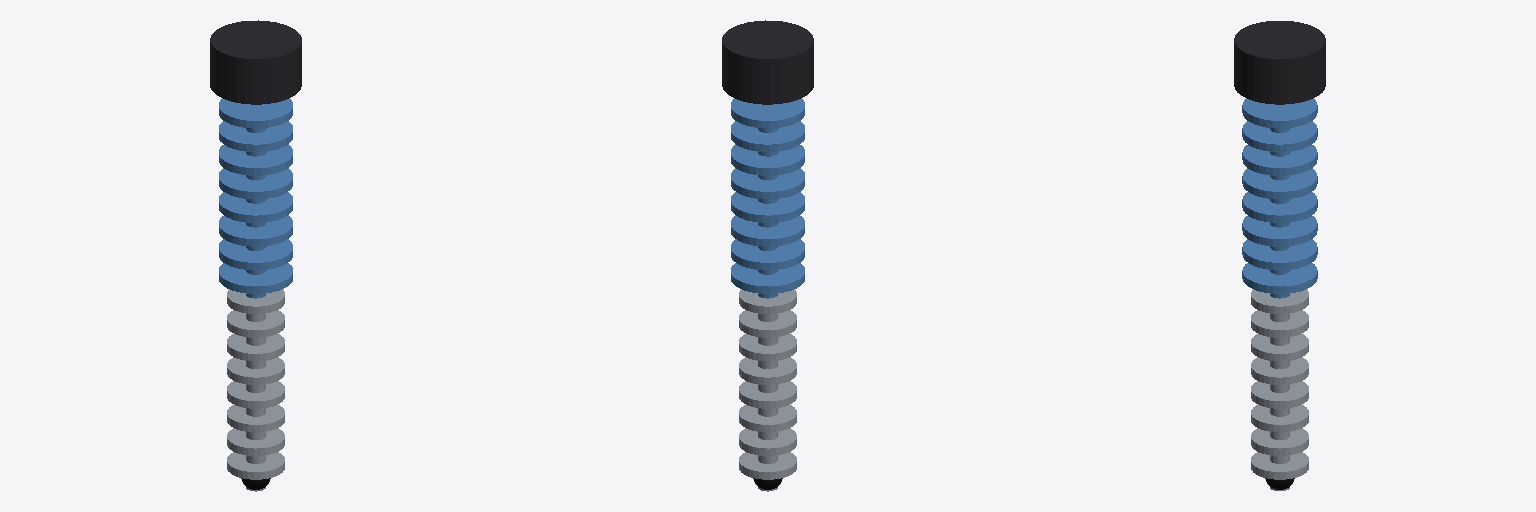
URDF robot description (gradus_leg):
<?xml version="1.0"?>
<robot name="gradus_leg">
  <link name="base">
    <inertial>
      <origin xyz="0 0 0.02" rpy="0 0 0"/>
      <mass value="0.2"/>
      <inertia ixx="0.0002" ixy="0" ixz="0" iyy="0.0002" iyz="0" izz="0.00025"/>
    </inertial>
    <visual>
      <origin xyz="0 0 0.03" rpy="0 0 0"/>
      <geometry><cylinder radius="0.055" length="0.06"/></geometry>
      <material name="base_mat"><color rgba="0.2 0.2 0.22 1"/></material>
    </visual>
    <collision>
      <origin xyz="0 0 0.03" rpy="0 0 0"/>
      <geometry><cylinder radius="0.055" length="0.06"/></geometry>
    </collision>
  </link>

  <link name="disk_0">
    <inertial>
      <origin xyz="0 0 -0.015625" rpy="0 0 0"/>
      <mass value="0.055000"/>
      <inertia ixx="2.83020833e-05" ixy="0" ixz="0" iyy="2.83020833e-05" iyz="0" izz="5.56875000e-05"/>
    </inertial>
    <visual>
      <origin xyz="0 0 0" rpy="0 0 0"/>
      <geometry><cylinder radius="0.045000" length="0.010000"/></geometry>
      <material name="disk_0_mat"><color rgba="0.36 0.55 0.75 1"/></material>
    </visual>
    <visual>
      <origin xyz="0 0 -0.015625" rpy="0 0 0"/>
      <geometry><cylinder radius="0.012" length="0.031250"/></geometry>
      <material name="disk_0_strut"><color rgba="0.36 0.55 0.75 1"/></material>
    </visual>
    <collision>
      <origin xyz="0 0 0" rpy="0 0 0"/>
      <geometry><cylinder radius="0.045000" length="0.010000"/></geometry>
    </collision>
  </link>

  <link name="disk_1">
    <inertial>
      <origin xyz="0 0 -0.015625" rpy="0 0 0"/>
      <mass value="0.055000"/>
      <inertia ixx="2.83020833e-05" ixy="0" ixz="0" iyy="2.83020833e-05" iyz="0" izz="5.56875000e-05"/>
    </inertial>
    <visual>
      <origin xyz="0 0 0" rpy="0 0 0"/>
      <geometry><cylinder radius="0.045000" length="0.010000"/></geometry>
      <material name="disk_1_mat"><color rgba="0.36 0.55 0.75 1"/></material>
    </visual>
    <visual>
      <origin xyz="0 0 -0.015625" rpy="0 0 0"/>
      <geometry><cylinder radius="0.012" length="0.031250"/></geometry>
      <material name="disk_1_strut"><color rgba="0.36 0.55 0.75 1"/></material>
    </visual>
    <collision>
      <origin xyz="0 0 0" rpy="0 0 0"/>
      <geometry><cylinder radius="0.045000" length="0.010000"/></geometry>
    </collision>
  </link>

  <link name="disk_2">
    <inertial>
      <origin xyz="0 0 -0.015625" rpy="0 0 0"/>
      <mass value="0.055000"/>
      <inertia ixx="2.83020833e-05" ixy="0" ixz="0" iyy="2.83020833e-05" iyz="0" izz="5.56875000e-05"/>
    </inertial>
    <visual>
      <origin xyz="0 0 0" rpy="0 0 0"/>
      <geometry><cylinder radius="0.045000" length="0.010000"/></geometry>
      <material name="disk_2_mat"><color rgba="0.36 0.55 0.75 1"/></material>
    </visual>
    <visual>
      <origin xyz="0 0 -0.015625" rpy="0 0 0"/>
      <geometry><cylinder radius="0.012" length="0.031250"/></geometry>
      <material name="disk_2_strut"><color rgba="0.36 0.55 0.75 1"/></material>
    </visual>
    <collision>
      <origin xyz="0 0 0" rpy="0 0 0"/>
      <geometry><cylinder radius="0.045000" length="0.010000"/></geometry>
    </collision>
  </link>

  <link name="disk_3">
    <inertial>
      <origin xyz="0 0 -0.015625" rpy="0 0 0"/>
      <mass value="0.055000"/>
      <inertia ixx="2.83020833e-05" ixy="0" ixz="0" iyy="2.83020833e-05" iyz="0" izz="5.56875000e-05"/>
    </inertial>
    <visual>
      <origin xyz="0 0 0" rpy="0 0 0"/>
      <geometry><cylinder radius="0.045000" length="0.010000"/></geometry>
      <material name="disk_3_mat"><color rgba="0.36 0.55 0.75 1"/></material>
    </visual>
    <visual>
      <origin xyz="0 0 -0.015625" rpy="0 0 0"/>
      <geometry><cylinder radius="0.012" length="0.031250"/></geometry>
      <material name="disk_3_strut"><color rgba="0.36 0.55 0.75 1"/></material>
    </visual>
    <collision>
      <origin xyz="0 0 0" rpy="0 0 0"/>
      <geometry><cylinder radius="0.045000" length="0.010000"/></geometry>
    </collision>
  </link>

  <link name="disk_4">
    <inertial>
      <origin xyz="0 0 -0.015625" rpy="0 0 0"/>
      <mass value="0.055000"/>
      <inertia ixx="2.83020833e-05" ixy="0" ixz="0" iyy="2.83020833e-05" iyz="0" izz="5.56875000e-05"/>
    </inertial>
    <visual>
      <origin xyz="0 0 0" rpy="0 0 0"/>
      <geometry><cylinder radius="0.045000" length="0.010000"/></geometry>
      <material name="disk_4_mat"><color rgba="0.36 0.55 0.75 1"/></material>
    </visual>
    <visual>
      <origin xyz="0 0 -0.015625" rpy="0 0 0"/>
      <geometry><cylinder radius="0.012" length="0.031250"/></geometry>
      <material name="disk_4_strut"><color rgba="0.36 0.55 0.75 1"/></material>
    </visual>
    <collision>
      <origin xyz="0 0 0" rpy="0 0 0"/>
      <geometry><cylinder radius="0.045000" length="0.010000"/></geometry>
    </collision>
  </link>

  <link name="disk_5">
    <inertial>
      <origin xyz="0 0 -0.015625" rpy="0 0 0"/>
      <mass value="0.055000"/>
      <inertia ixx="2.83020833e-05" ixy="0" ixz="0" iyy="2.83020833e-05" iyz="0" izz="5.56875000e-05"/>
    </inertial>
    <visual>
      <origin xyz="0 0 0" rpy="0 0 0"/>
      <geometry><cylinder radius="0.045000" length="0.010000"/></geometry>
      <material name="disk_5_mat"><color rgba="0.36 0.55 0.75 1"/></material>
    </visual>
    <visual>
      <origin xyz="0 0 -0.015625" rpy="0 0 0"/>
      <geometry><cylinder radius="0.012" length="0.031250"/></geometry>
      <material name="disk_5_strut"><color rgba="0.36 0.55 0.75 1"/></material>
    </visual>
    <collision>
      <origin xyz="0 0 0" rpy="0 0 0"/>
      <geometry><cylinder radius="0.045000" length="0.010000"/></geometry>
    </collision>
  </link>

  <link name="disk_6">
    <inertial>
      <origin xyz="0 0 -0.015625" rpy="0 0 0"/>
      <mass value="0.055000"/>
      <inertia ixx="2.83020833e-05" ixy="0" ixz="0" iyy="2.83020833e-05" iyz="0" izz="5.56875000e-05"/>
    </inertial>
    <visual>
      <origin xyz="0 0 0" rpy="0 0 0"/>
      <geometry><cylinder radius="0.045000" length="0.010000"/></geometry>
      <material name="disk_6_mat"><color rgba="0.36 0.55 0.75 1"/></material>
    </visual>
    <visual>
      <origin xyz="0 0 -0.015625" rpy="0 0 0"/>
      <geometry><cylinder radius="0.012" length="0.031250"/></geometry>
      <material name="disk_6_strut"><color rgba="0.36 0.55 0.75 1"/></material>
    </visual>
    <collision>
      <origin xyz="0 0 0" rpy="0 0 0"/>
      <geometry><cylinder radius="0.045000" length="0.010000"/></geometry>
    </collision>
  </link>

  <link name="disk_7">
    <inertial>
      <origin xyz="0 0 -0.015625" rpy="0 0 0"/>
      <mass value="0.055000"/>
      <inertia ixx="2.83020833e-05" ixy="0" ixz="0" iyy="2.83020833e-05" iyz="0" izz="5.56875000e-05"/>
    </inertial>
    <visual>
      <origin xyz="0 0 0" rpy="0 0 0"/>
      <geometry><cylinder radius="0.045000" length="0.010000"/></geometry>
      <material name="disk_7_mat"><color rgba="0.36 0.55 0.75 1"/></material>
    </visual>
    <visual>
      <origin xyz="0 0 -0.015625" rpy="0 0 0"/>
      <geometry><cylinder radius="0.012" length="0.031250"/></geometry>
      <material name="disk_7_strut"><color rgba="0.36 0.55 0.75 1"/></material>
    </visual>
    <collision>
      <origin xyz="0 0 0" rpy="0 0 0"/>
      <geometry><cylinder radius="0.045000" length="0.010000"/></geometry>
    </collision>
  </link>

  <link name="disk_8">
    <inertial>
      <origin xyz="0 0 -0.015625" rpy="0 0 0"/>
      <mass value="0.040000"/>
      <inertia ixx="1.25833333e-05" ixy="0" ixz="0" iyy="1.25833333e-05" iyz="0" izz="2.45000000e-05"/>
    </inertial>
    <visual>
      <origin xyz="0 0 0" rpy="0 0 0"/>
      <geometry><cylinder radius="0.035000" length="0.010000"/></geometry>
      <material name="disk_8_mat"><color rgba="0.62 0.65 0.68 1"/></material>
    </visual>
    <visual>
      <origin xyz="0 0 -0.015625" rpy="0 0 0"/>
      <geometry><cylinder radius="0.012" length="0.031250"/></geometry>
      <material name="disk_8_strut"><color rgba="0.62 0.65 0.68 1"/></material>
    </visual>
    <collision>
      <origin xyz="0 0 0" rpy="0 0 0"/>
      <geometry><cylinder radius="0.035000" length="0.010000"/></geometry>
    </collision>
  </link>

  <link name="disk_9">
    <inertial>
      <origin xyz="0 0 -0.015625" rpy="0 0 0"/>
      <mass value="0.040000"/>
      <inertia ixx="1.25833333e-05" ixy="0" ixz="0" iyy="1.25833333e-05" iyz="0" izz="2.45000000e-05"/>
    </inertial>
    <visual>
      <origin xyz="0 0 0" rpy="0 0 0"/>
      <geometry><cylinder radius="0.035000" length="0.010000"/></geometry>
      <material name="disk_9_mat"><color rgba="0.62 0.65 0.68 1"/></material>
    </visual>
    <visual>
      <origin xyz="0 0 -0.015625" rpy="0 0 0"/>
      <geometry><cylinder radius="0.012" length="0.031250"/></geometry>
      <material name="disk_9_strut"><color rgba="0.62 0.65 0.68 1"/></material>
    </visual>
    <collision>
      <origin xyz="0 0 0" rpy="0 0 0"/>
      <geometry><cylinder radius="0.035000" length="0.010000"/></geometry>
    </collision>
  </link>

  <link name="disk_10">
    <inertial>
      <origin xyz="0 0 -0.015625" rpy="0 0 0"/>
      <mass value="0.040000"/>
      <inertia ixx="1.25833333e-05" ixy="0" ixz="0" iyy="1.25833333e-05" iyz="0" izz="2.45000000e-05"/>
    </inertial>
    <visual>
      <origin xyz="0 0 0" rpy="0 0 0"/>
      <geometry><cylinder radius="0.035000" length="0.010000"/></geometry>
      <material name="disk_10_mat"><color rgba="0.62 0.65 0.68 1"/></material>
    </visual>
    <visual>
      <origin xyz="0 0 -0.015625" rpy="0 0 0"/>
      <geometry><cylinder radius="0.012" length="0.031250"/></geometry>
      <material name="disk_10_strut"><color rgba="0.62 0.65 0.68 1"/></material>
    </visual>
    <collision>
      <origin xyz="0 0 0" rpy="0 0 0"/>
      <geometry><cylinder radius="0.035000" length="0.010000"/></geometry>
    </collision>
  </link>

  <link name="disk_11">
    <inertial>
      <origin xyz="0 0 -0.015625" rpy="0 0 0"/>
      <mass value="0.040000"/>
      <inertia ixx="1.25833333e-05" ixy="0" ixz="0" iyy="1.25833333e-05" iyz="0" izz="2.45000000e-05"/>
    </inertial>
    <visual>
      <origin xyz="0 0 0" rpy="0 0 0"/>
      <geometry><cylinder radius="0.035000" length="0.010000"/></geometry>
      <material name="disk_11_mat"><color rgba="0.62 0.65 0.68 1"/></material>
    </visual>
    <visual>
      <origin xyz="0 0 -0.015625" rpy="0 0 0"/>
      <geometry><cylinder radius="0.012" length="0.031250"/></geometry>
      <material name="disk_11_strut"><color rgba="0.62 0.65 0.68 1"/></material>
    </visual>
    <collision>
      <origin xyz="0 0 0" rpy="0 0 0"/>
      <geometry><cylinder radius="0.035000" length="0.010000"/></geometry>
    </collision>
  </link>

  <link name="disk_12">
    <inertial>
      <origin xyz="0 0 -0.015625" rpy="0 0 0"/>
      <mass value="0.040000"/>
      <inertia ixx="1.25833333e-05" ixy="0" ixz="0" iyy="1.25833333e-05" iyz="0" izz="2.45000000e-05"/>
    </inertial>
    <visual>
      <origin xyz="0 0 0" rpy="0 0 0"/>
      <geometry><cylinder radius="0.035000" length="0.010000"/></geometry>
      <material name="disk_12_mat"><color rgba="0.62 0.65 0.68 1"/></material>
    </visual>
    <visual>
      <origin xyz="0 0 -0.015625" rpy="0 0 0"/>
      <geometry><cylinder radius="0.012" length="0.031250"/></geometry>
      <material name="disk_12_strut"><color rgba="0.62 0.65 0.68 1"/></material>
    </visual>
    <collision>
      <origin xyz="0 0 0" rpy="0 0 0"/>
      <geometry><cylinder radius="0.035000" length="0.010000"/></geometry>
    </collision>
  </link>

  <link name="disk_13">
    <inertial>
      <origin xyz="0 0 -0.015625" rpy="0 0 0"/>
      <mass value="0.040000"/>
      <inertia ixx="1.25833333e-05" ixy="0" ixz="0" iyy="1.25833333e-05" iyz="0" izz="2.45000000e-05"/>
    </inertial>
    <visual>
      <origin xyz="0 0 0" rpy="0 0 0"/>
      <geometry><cylinder radius="0.035000" length="0.010000"/></geometry>
      <material name="disk_13_mat"><color rgba="0.62 0.65 0.68 1"/></material>
    </visual>
    <visual>
      <origin xyz="0 0 -0.015625" rpy="0 0 0"/>
      <geometry><cylinder radius="0.012" length="0.031250"/></geometry>
      <material name="disk_13_strut"><color rgba="0.62 0.65 0.68 1"/></material>
    </visual>
    <collision>
      <origin xyz="0 0 0" rpy="0 0 0"/>
      <geometry><cylinder radius="0.035000" length="0.010000"/></geometry>
    </collision>
  </link>

  <link name="disk_14">
    <inertial>
      <origin xyz="0 0 -0.015625" rpy="0 0 0"/>
      <mass value="0.040000"/>
      <inertia ixx="1.25833333e-05" ixy="0" ixz="0" iyy="1.25833333e-05" iyz="0" izz="2.45000000e-05"/>
    </inertial>
    <visual>
      <origin xyz="0 0 0" rpy="0 0 0"/>
      <geometry><cylinder radius="0.035000" length="0.010000"/></geometry>
      <material name="disk_14_mat"><color rgba="0.62 0.65 0.68 1"/></material>
    </visual>
    <visual>
      <origin xyz="0 0 -0.015625" rpy="0 0 0"/>
      <geometry><cylinder radius="0.012" length="0.031250"/></geometry>
      <material name="disk_14_strut"><color rgba="0.62 0.65 0.68 1"/></material>
    </visual>
    <collision>
      <origin xyz="0 0 0" rpy="0 0 0"/>
      <geometry><cylinder radius="0.035000" length="0.010000"/></geometry>
    </collision>
  </link>

  <link name="disk_15">
    <inertial>
      <origin xyz="0 0 -0.015625" rpy="0 0 0"/>
      <mass value="0.040000"/>
      <inertia ixx="1.25833333e-05" ixy="0" ixz="0" iyy="1.25833333e-05" iyz="0" izz="2.45000000e-05"/>
    </inertial>
    <visual>
      <origin xyz="0 0 0" rpy="0 0 0"/>
      <geometry><cylinder radius="0.035000" length="0.010000"/></geometry>
      <material name="disk_15_mat"><color rgba="0.62 0.65 0.68 1"/></material>
    </visual>
    <visual>
      <origin xyz="0 0 -0.015625" rpy="0 0 0"/>
      <geometry><cylinder radius="0.012" length="0.031250"/></geometry>
      <material name="disk_15_strut"><color rgba="0.62 0.65 0.68 1"/></material>
    </visual>
    <collision>
      <origin xyz="0 0 0" rpy="0 0 0"/>
      <geometry><cylinder radius="0.035000" length="0.010000"/></geometry>
    </collision>
  </link>

  <joint name="joint_0" type="revolute">
    <origin xyz="0 0 -0.031250" rpy="0 0 0"/>
    <parent link="base"/>
    <child link="disk_0"/>
    <axis xyz="0 1 0"/>
    <limit lower="-1.75" upper="1.75" effort="500" velocity="10"/>
    <dynamics damping="0.002" friction="0"/>
  </joint>

  <joint name="joint_1" type="revolute">
    <origin xyz="0 0 -0.031250" rpy="0 0 0"/>
    <parent link="disk_0"/>
    <child link="disk_1"/>
    <axis xyz="0 1 0"/>
    <limit lower="-1.75" upper="1.75" effort="500" velocity="10"/>
    <dynamics damping="0.002" friction="0"/>
  </joint>

  <joint name="joint_2" type="revolute">
    <origin xyz="0 0 -0.031250" rpy="0 0 0"/>
    <parent link="disk_1"/>
    <child link="disk_2"/>
    <axis xyz="0 1 0"/>
    <limit lower="-1.75" upper="1.75" effort="500" velocity="10"/>
    <dynamics damping="0.002" friction="0"/>
  </joint>

  <joint name="joint_3" type="revolute">
    <origin xyz="0 0 -0.031250" rpy="0 0 0"/>
    <parent link="disk_2"/>
    <child link="disk_3"/>
    <axis xyz="0 1 0"/>
    <limit lower="-1.75" upper="1.75" effort="500" velocity="10"/>
    <dynamics damping="0.002" friction="0"/>
  </joint>

  <joint name="joint_4" type="revolute">
    <origin xyz="0 0 -0.031250" rpy="0 0 0"/>
    <parent link="disk_3"/>
    <child link="disk_4"/>
    <axis xyz="0 1 0"/>
    <limit lower="-1.75" upper="1.75" effort="500" velocity="10"/>
    <dynamics damping="0.002" friction="0"/>
  </joint>

  <joint name="joint_5" type="revolute">
    <origin xyz="0 0 -0.031250" rpy="0 0 0"/>
    <parent link="disk_4"/>
    <child link="disk_5"/>
    <axis xyz="0 1 0"/>
    <limit lower="-1.75" upper="1.75" effort="500" velocity="10"/>
    <dynamics damping="0.002" friction="0"/>
  </joint>

  <joint name="joint_6" type="revolute">
    <origin xyz="0 0 -0.031250" rpy="0 0 0"/>
    <parent link="disk_5"/>
    <child link="disk_6"/>
    <axis xyz="0 1 0"/>
    <limit lower="-1.75" upper="1.75" effort="500" velocity="10"/>
    <dynamics damping="0.002" friction="0"/>
  </joint>

  <joint name="joint_7" type="revolute">
    <origin xyz="0 0 -0.031250" rpy="0 0 0"/>
    <parent link="disk_6"/>
    <child link="disk_7"/>
    <axis xyz="0 1 0"/>
    <limit lower="-1.75" upper="1.75" effort="500" velocity="10"/>
    <dynamics damping="0.002" friction="0"/>
  </joint>

  <joint name="joint_8" type="revolute">
    <origin xyz="0 0 -0.031250" rpy="0 0 0"/>
    <parent link="disk_7"/>
    <child link="disk_8"/>
    <axis xyz="0 1 0"/>
    <limit lower="-1.75" upper="1.75" effort="500" velocity="10"/>
    <dynamics damping="0.002" friction="0"/>
  </joint>

  <joint name="joint_9" type="revolute">
    <origin xyz="0 0 -0.031250" rpy="0 0 0"/>
    <parent link="disk_8"/>
    <child link="disk_9"/>
    <axis xyz="0 1 0"/>
    <limit lower="-1.75" upper="1.75" effort="500" velocity="10"/>
    <dynamics damping="0.002" friction="0"/>
  </joint>

  <joint name="joint_10" type="revolute">
    <origin xyz="0 0 -0.031250" rpy="0 0 0"/>
    <parent link="disk_9"/>
    <child link="disk_10"/>
    <axis xyz="0 1 0"/>
    <limit lower="-1.75" upper="1.75" effort="500" velocity="10"/>
    <dynamics damping="0.002" friction="0"/>
  </joint>

  <joint name="joint_11" type="revolute">
    <origin xyz="0 0 -0.031250" rpy="0 0 0"/>
    <parent link="disk_10"/>
    <child link="disk_11"/>
    <axis xyz="0 1 0"/>
    <limit lower="-1.75" upper="1.75" effort="500" velocity="10"/>
    <dynamics damping="0.002" friction="0"/>
  </joint>

  <joint name="joint_12" type="revolute">
    <origin xyz="0 0 -0.031250" rpy="0 0 0"/>
    <parent link="disk_11"/>
    <child link="disk_12"/>
    <axis xyz="0 1 0"/>
    <limit lower="-1.75" upper="1.75" effort="500" velocity="10"/>
    <dynamics damping="0.002" friction="0"/>
  </joint>

  <joint name="joint_13" type="revolute">
    <origin xyz="0 0 -0.031250" rpy="0 0 0"/>
    <parent link="disk_12"/>
    <child link="disk_13"/>
    <axis xyz="0 1 0"/>
    <limit lower="-1.75" upper="1.75" effort="500" velocity="10"/>
    <dynamics damping="0.002" friction="0"/>
  </joint>

  <joint name="joint_14" type="revolute">
    <origin xyz="0 0 -0.031250" rpy="0 0 0"/>
    <parent link="disk_13"/>
    <child link="disk_14"/>
    <axis xyz="0 1 0"/>
    <limit lower="-1.75" upper="1.75" effort="500" velocity="10"/>
    <dynamics damping="0.002" friction="0"/>
  </joint>

  <joint name="joint_15" type="revolute">
    <origin xyz="0 0 -0.031250" rpy="0 0 0"/>
    <parent link="disk_14"/>
    <child link="disk_15"/>
    <axis xyz="0 1 0"/>
    <limit lower="-1.75" upper="1.75" effort="500" velocity="10"/>
    <dynamics damping="0.002" friction="0"/>
  </joint>

  <joint name="foot_joint" type="fixed">
    <origin xyz="0 0 -0.015625" rpy="0 0 0"/>
    <parent link="disk_15"/>
    <child link="foot"/>
  </joint>
  <link name="foot">
    <inertial>
      <origin xyz="0 0 0" rpy="0 0 0"/>
      <mass value="0.03"/>
      <inertia ixx="1.0e-5" ixy="0" ixz="0" iyy="1.0e-5" iyz="0" izz="1.0e-5"/>
    </inertial>
    <visual>
      <geometry><sphere radius="0.018"/></geometry>
      <material name="foot_mat"><color rgba="0.1 0.1 0.1 1"/></material>
    </visual>
    <collision>
      <geometry><sphere radius="0.018"/></geometry>
    </collision>
  </link>
</robot>

--- What the picture shows (computed from the rendered views, not written in the file) ---
The picture shows the robot from 3 angles, left to right: view 1: azimuth 30°, elevation 25°; view 2: azimuth 150°, elevation 25°; view 3: azimuth 270°, elevation 25°; orthographic projection.
Robot: gradus_leg — 18 links, 17 joints (16 revolute, 1 fixed); root link base; default pose: every joint at zero.
Visible links, largest first — view 1: base, disk_0, disk_6, disk_3, disk_1, disk_5, disk_2, disk_4, disk_7, disk_9, disk_11, disk_12 (+5 smaller); view 2: base, disk_0, disk_6, disk_3, disk_1, disk_5, disk_2, disk_4, disk_7, disk_9, disk_11, disk_12 (+5 smaller); view 3: base, disk_0, disk_1, disk_3, disk_4, disk_6, disk_5, disk_2, disk_7, disk_12, disk_14, disk_11 (+5 smaller).
Boxes of the visible links, x1,y1,x2,y2 form: base: [210, 20, 301, 104]; disk_0: [219, 98, 292, 132]; disk_6: [219, 239, 292, 274]; disk_3: [219, 168, 292, 203]; disk_1: [219, 121, 292, 156]; disk_5: [219, 215, 292, 250]; disk_2: [219, 144, 292, 179]; disk_4: [219, 192, 292, 227]; disk_7: [219, 263, 292, 298]; disk_9: [227, 310, 284, 345]; disk_11: [227, 357, 284, 392]; disk_12: [227, 381, 284, 416]; base: [722, 20, 813, 104]; disk_0: [731, 98, 804, 132]; disk_6: [731, 239, 804, 274]; disk_3: [731, 168, 804, 203]; disk_1: [731, 121, 804, 156]; disk_5: [731, 215, 804, 250]; disk_2: [731, 144, 804, 179]; disk_4: [731, 192, 804, 227]; disk_7: [731, 263, 804, 298]; disk_9: [739, 310, 796, 345]; disk_11: [739, 357, 796, 392]; disk_12: [739, 381, 796, 416]; base: [1234, 21, 1325, 104]; disk_0: [1242, 98, 1317, 132]; disk_1: [1242, 121, 1317, 156]; disk_3: [1242, 168, 1317, 203]; disk_4: [1242, 192, 1317, 227]; disk_6: [1242, 239, 1317, 274]; disk_5: [1242, 216, 1317, 250]; disk_2: [1242, 145, 1317, 179]; disk_7: [1242, 263, 1317, 298]; disk_12: [1251, 381, 1308, 416]; disk_14: [1251, 428, 1308, 463]; disk_11: [1251, 357, 1308, 392].
Size in the robot's own frame: 0.11 by 0.11 by 0.5936 metres.
Geometry: primitives only (box / cylinder / sphere), no mesh files.
